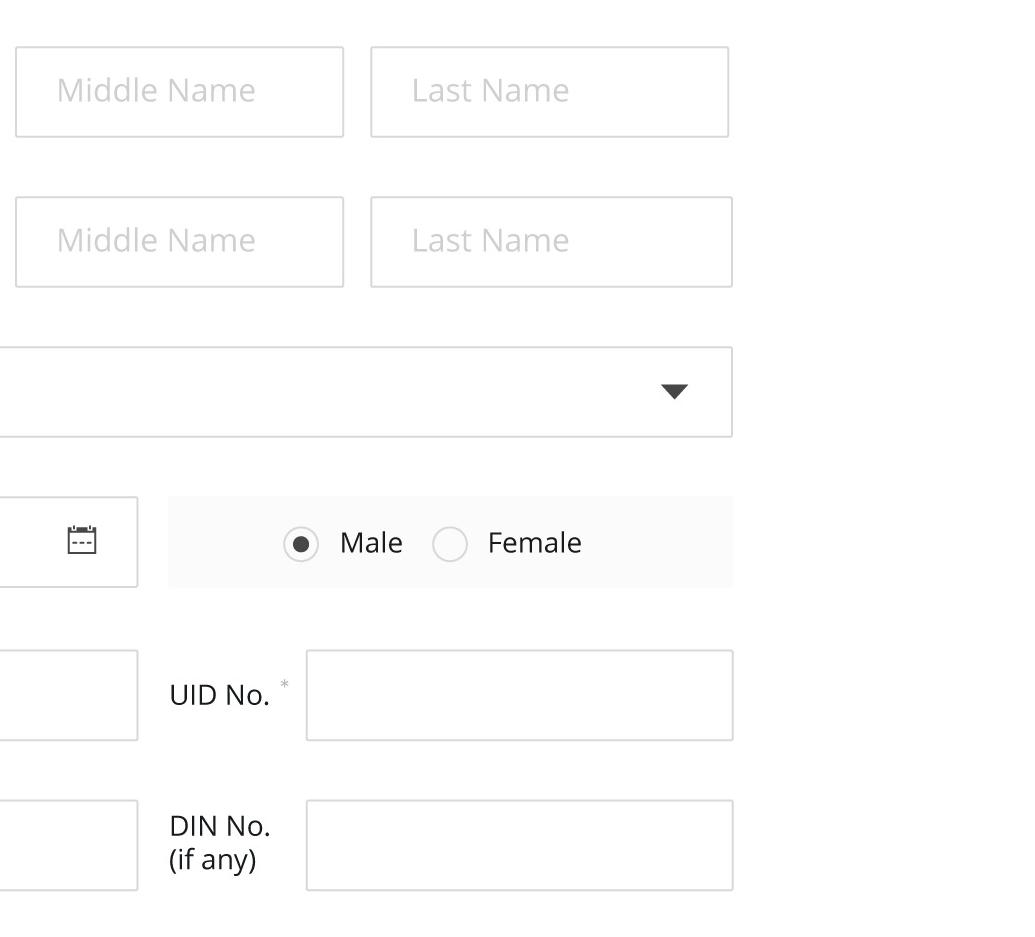field: (301, 798, 740, 896), (301, 648, 736, 744), (364, 194, 739, 290), (366, 43, 732, 141), (13, 43, 350, 141), (13, 194, 346, 292)
field_with_label: (166, 791, 750, 902), (162, 639, 748, 748)
radio: (280, 518, 336, 562), (432, 520, 481, 562)
radio_with_label: (425, 508, 578, 576), (266, 511, 408, 569)
